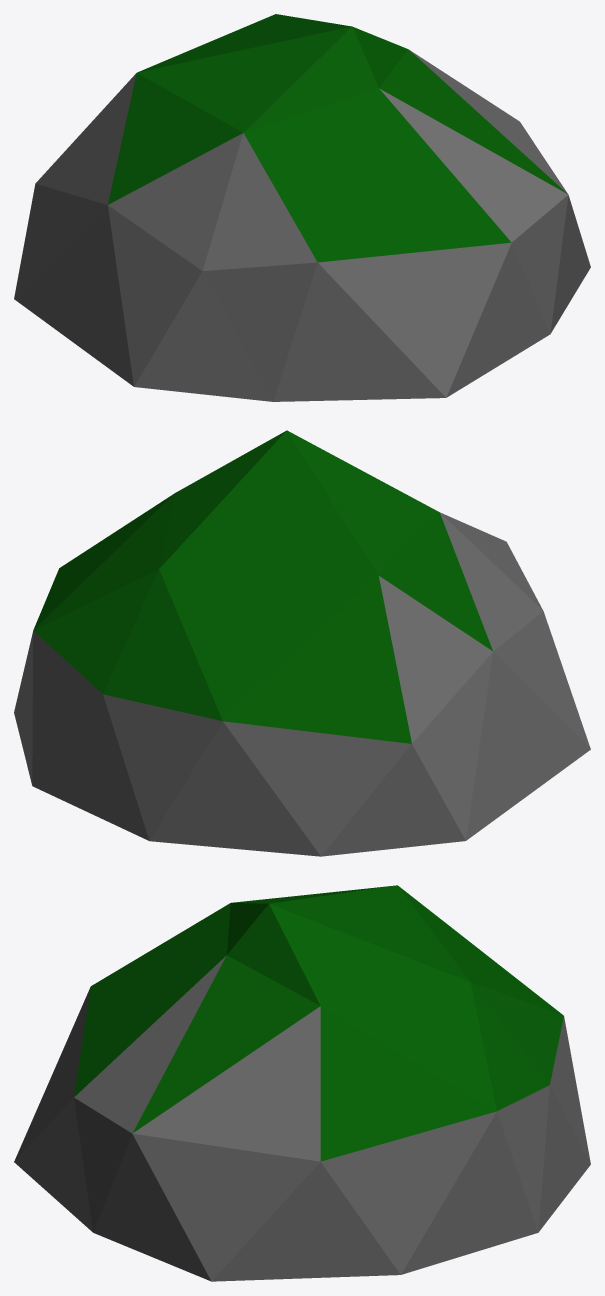
File: rock_b_with_moss.obj
3 views of the same model, one above another, from view 1: azimuth 30°, elevation 25°; view 2: azimuth 150°, elevation 25°; view 3: azimuth 270°, elevation 25° (orthographic). The views are drawn at different scales.
Parts seen in each view (by area): view 1: rock_b_with_moss_Icosphere.005; view 2: rock_b_with_moss_Icosphere.005; view 3: rock_b_with_moss_Icosphere.005.
Part boxes in pixels (x1,y1,x2,y2): rock_b_with_moss_Icosphere.005: (14,14,590,401); rock_b_with_moss_Icosphere.005: (14,430,590,856); rock_b_with_moss_Icosphere.005: (14,885,590,1281).
Bounding box in the file's own units: 1.97 × 1.1 × 2.1.
